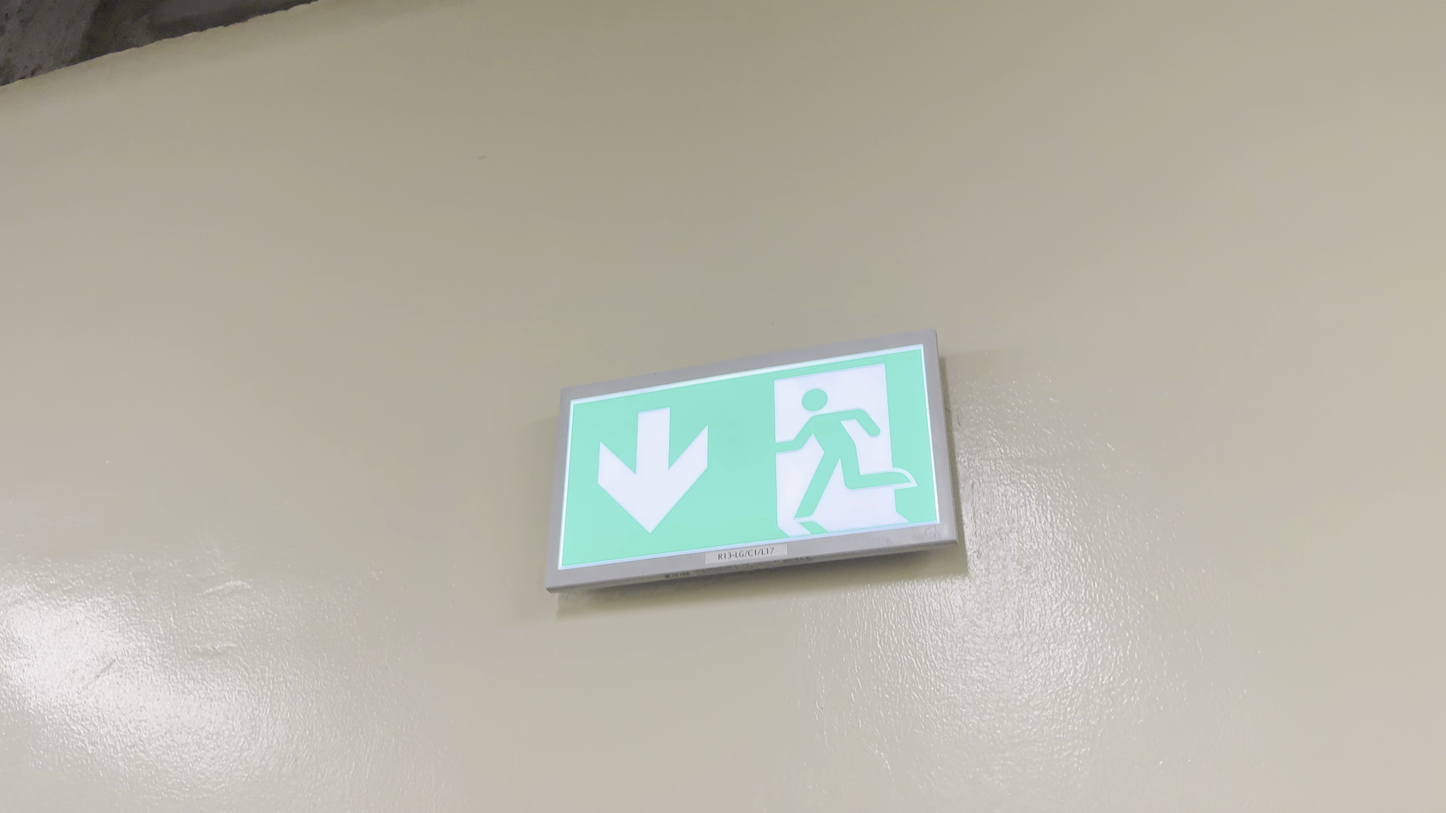emergency_exit: (543, 327, 960, 593)
